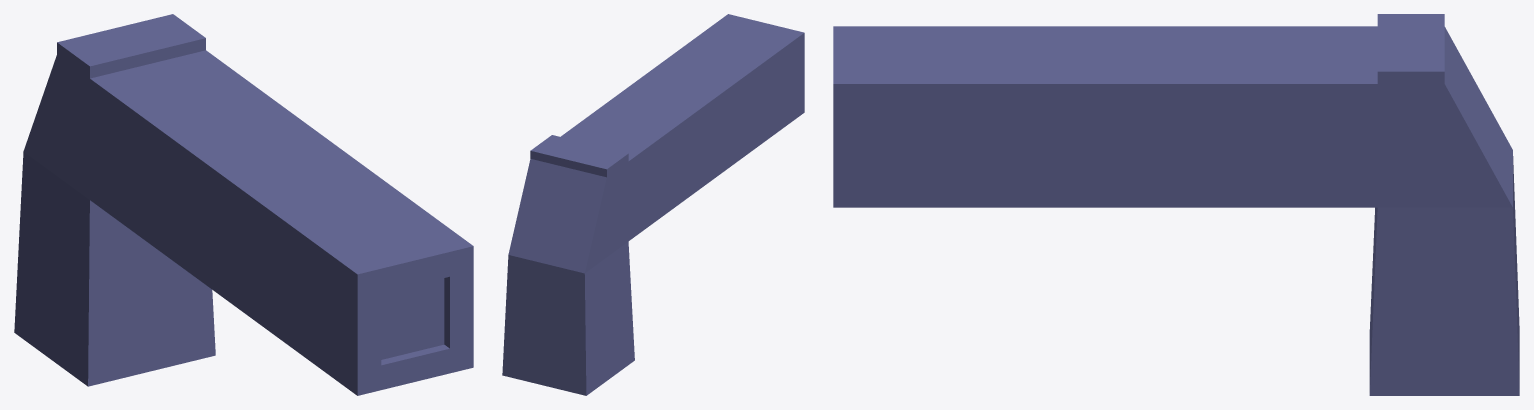
Rendered from RSH12.fbx.
3 views of the same model, side by side, from view 1: azimuth 30°, elevation 25°; view 2: azimuth 150°, elevation 25°; view 3: azimuth 270°, elevation 25° (orthographic). The views are drawn at different scales.
Visible parts, largest first — view 1: Cube; view 2: Cube; view 3: Cube.
Part boxes in pixels (box(x1,y1,x2,y2)): Cube: box(14, 14, 473, 395); Cube: box(502, 14, 804, 395); Cube: box(833, 14, 1519, 395).
Bounding box in the file's own units: 22 × 52 × 101.
